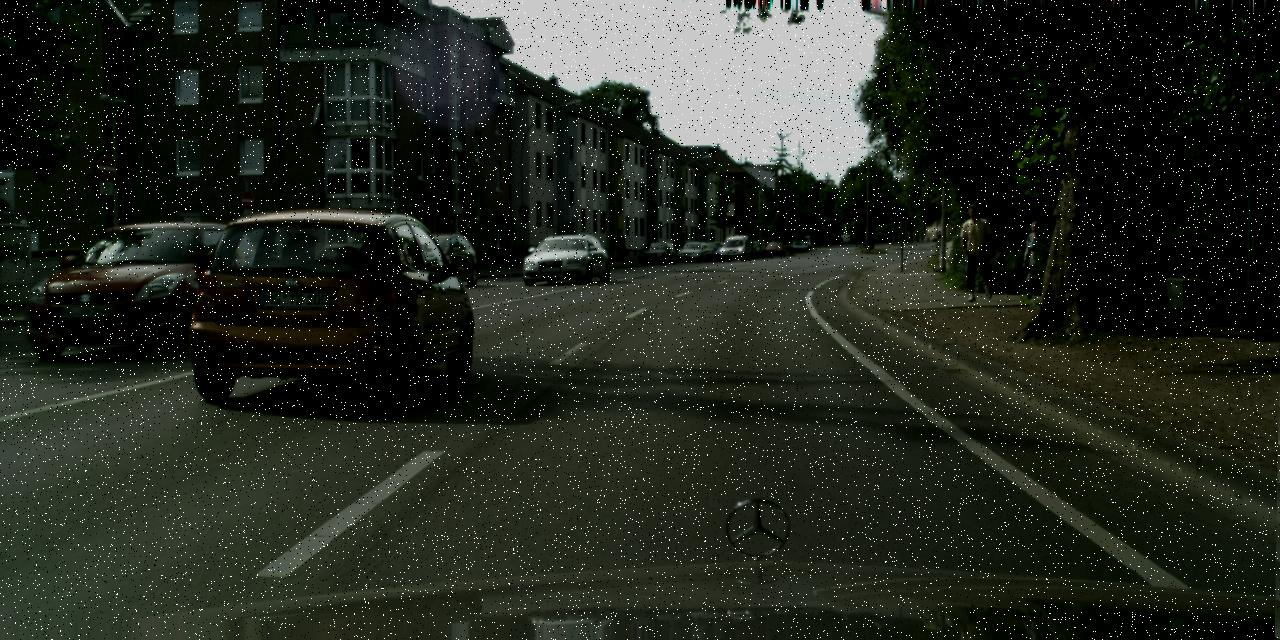ped: (958, 204, 997, 298), (1022, 220, 1052, 298), (615, 232, 626, 260)
